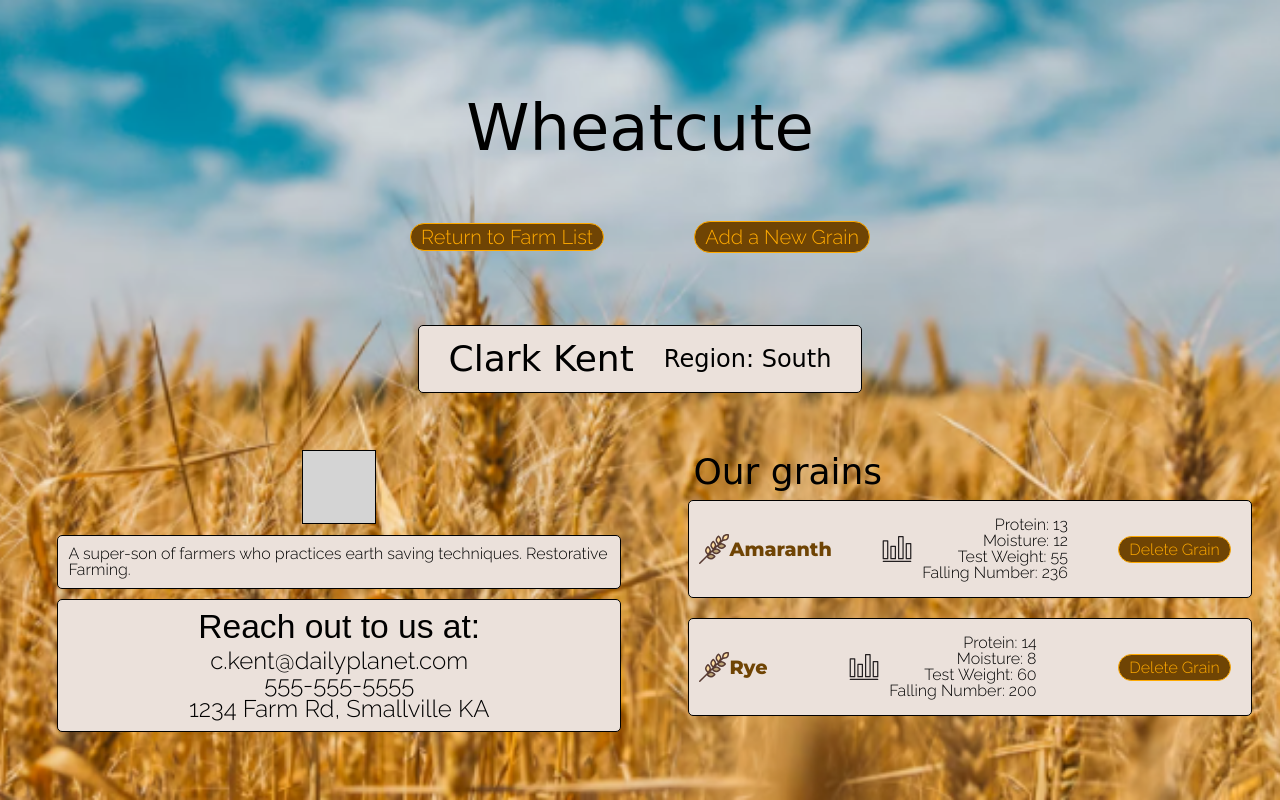
Test: navigation away from the new grain form › should remain on the farmer profile view when the popup is closed
Click the button with class "update-farmer-nav-btn" showing "Add a New Grain": point(782, 237) top-left (694, 221), bottom-right (870, 253)
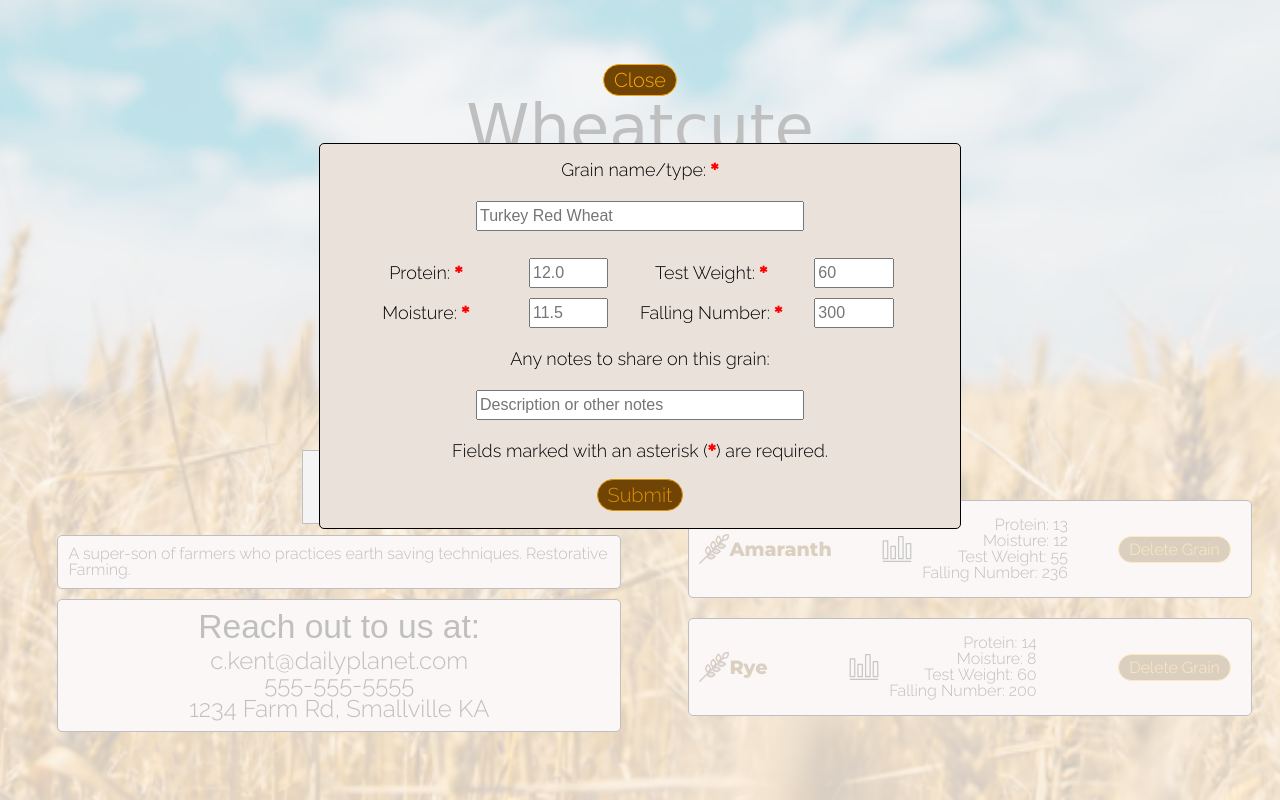
Expected: the form with class "new-grain-form" is shown, top-left (319, 143), bottom-right (961, 529)
Click the button with class "close-modal-btn": point(640, 80) top-left (603, 64), bottom-right (677, 96)
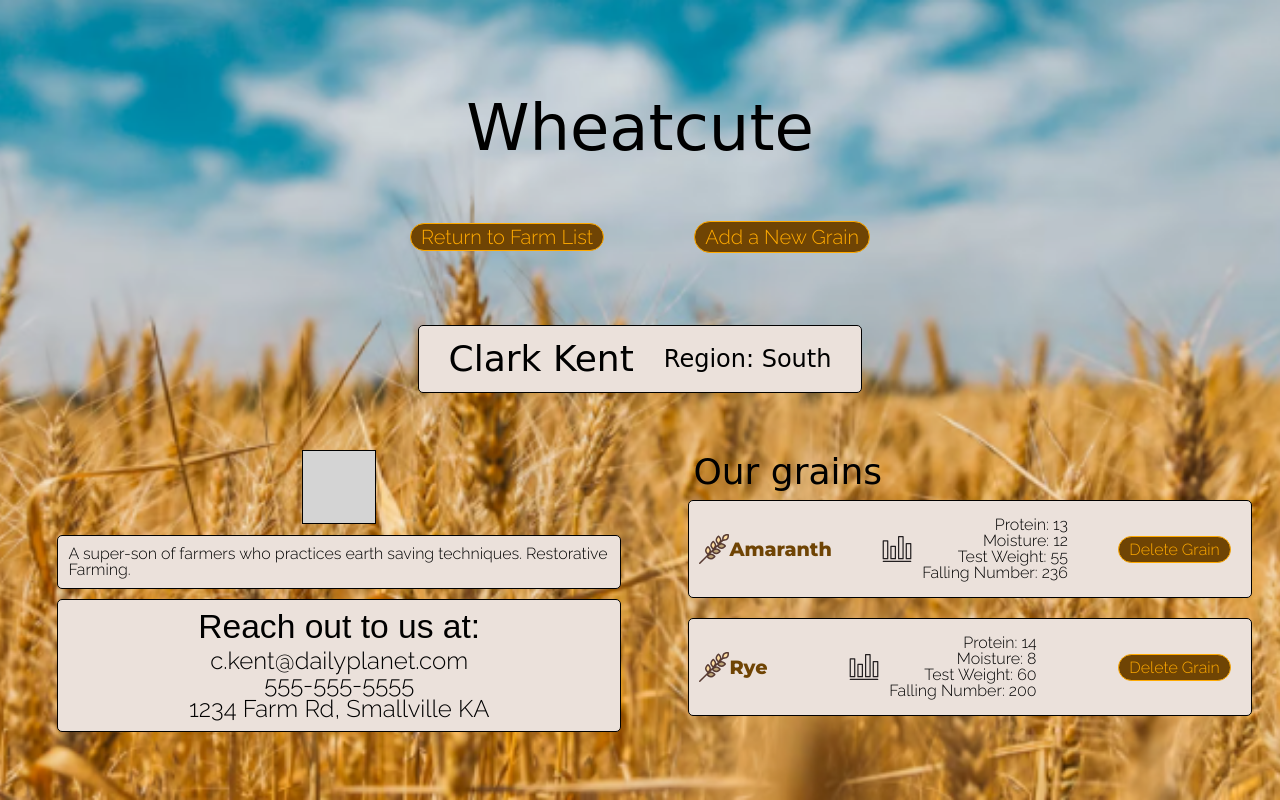
Expected: the form with class "new-grain-form" is gone
